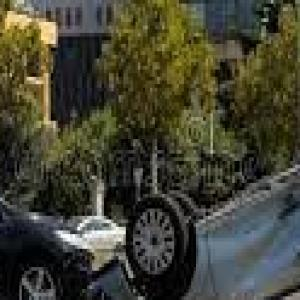severe: (87, 47, 300, 300)
